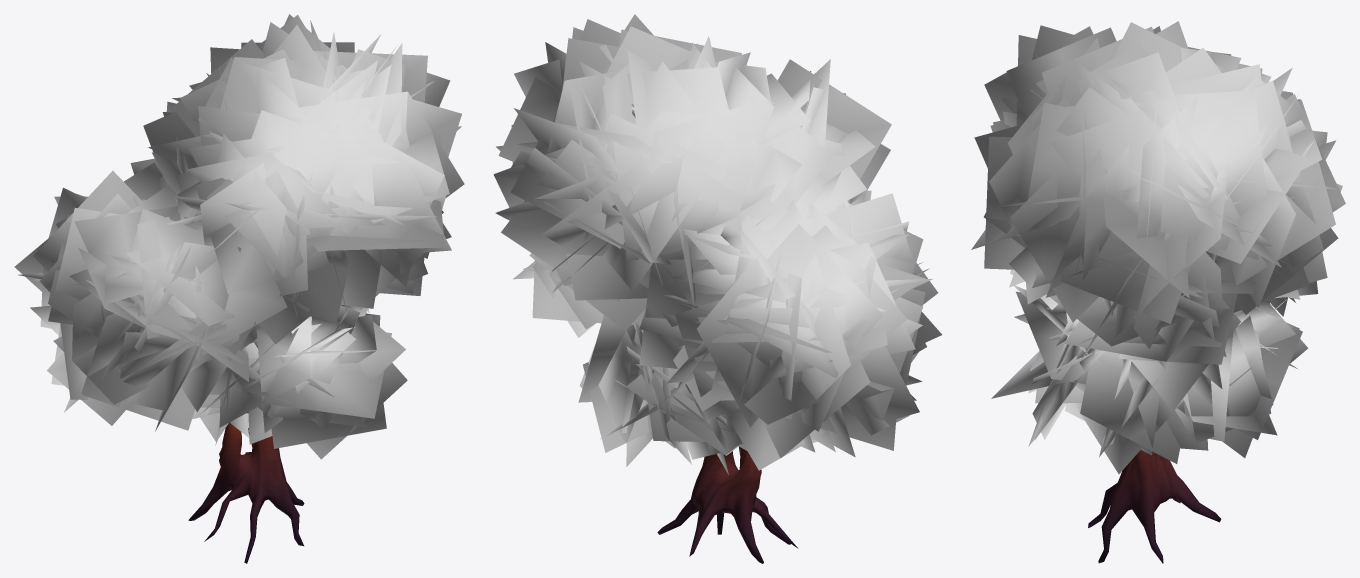
Rendered from simple_tree_5.fbx.
The picture shows the model from 3 angles, left to right: view 1: azimuth 30°, elevation 25°; view 2: azimuth 150°, elevation 25°; view 3: azimuth 270°, elevation 25°; orthographic projection. The views are drawn at different scales.
Visible parts, largest first — view 1: 5 canopy_cards_LOD0, 5 trunk; view 2: 5 canopy_cards_LOD0, 5 trunk; view 3: 5 canopy_cards_LOD0, 5 trunk.
Part boxes in pixels (left/top/right/bottom): 5 canopy_cards_LOD0: left=14, top=14, right=464, bottom=459; 5 trunk: left=188, top=412, right=304, bottom=563; 5 canopy_cards_LOD0: left=493, top=14, right=941, bottom=474; 5 trunk: left=657, top=446, right=798, bottom=563; 5 canopy_cards_LOD0: left=971, top=21, right=1345, bottom=474; 5 trunk: left=1088, top=450, right=1221, bottom=563.
Size of what is drawn, in the model's own units: 1887 by 2210 by 1386.
